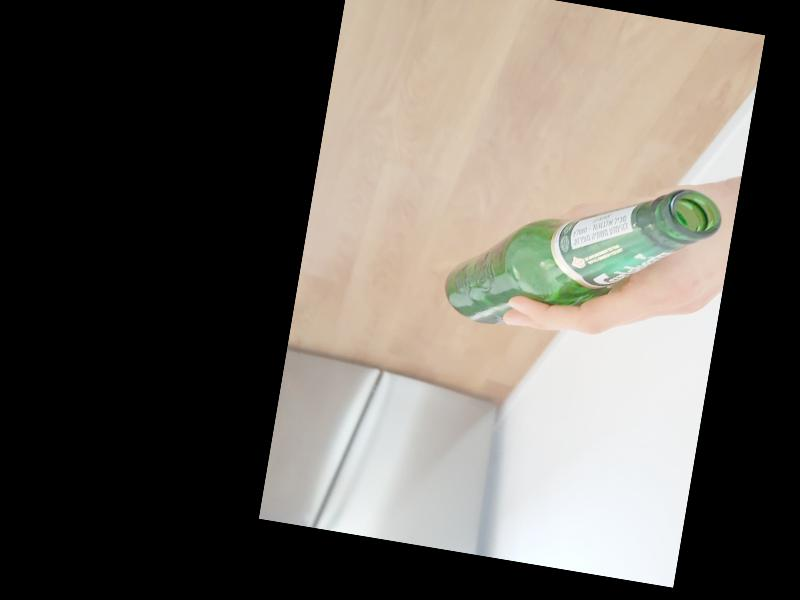Beer: (440, 151, 726, 358)
